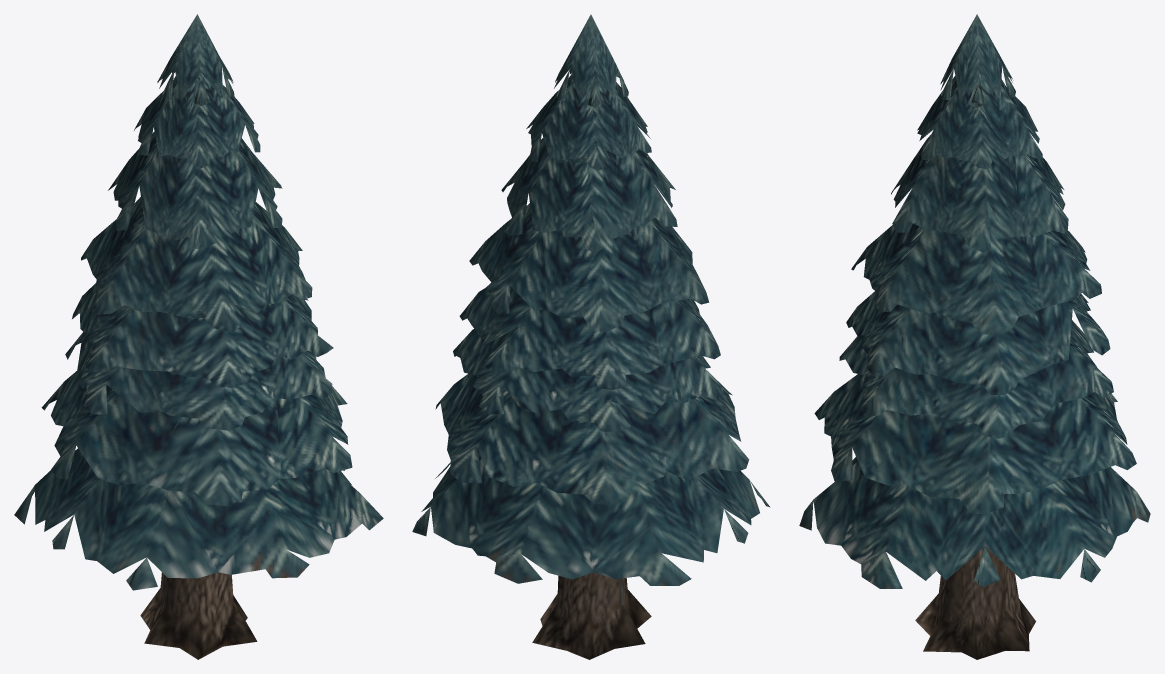
Rendered from tree.glb.
3 renders of one model, left to right at view 1: azimuth 30°, elevation 25°; view 2: azimuth 150°, elevation 25°; view 3: azimuth 270°, elevation 25°, orthographic.
Size of the model in its own units: 3.54 by 7 by 3.59.
Materials: 1 (1 with a texture image).
